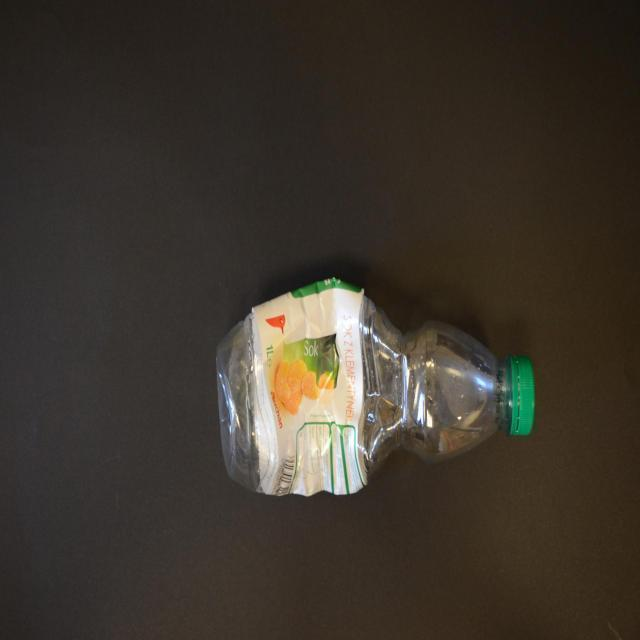plastic_bottle: (215, 277, 536, 497)
